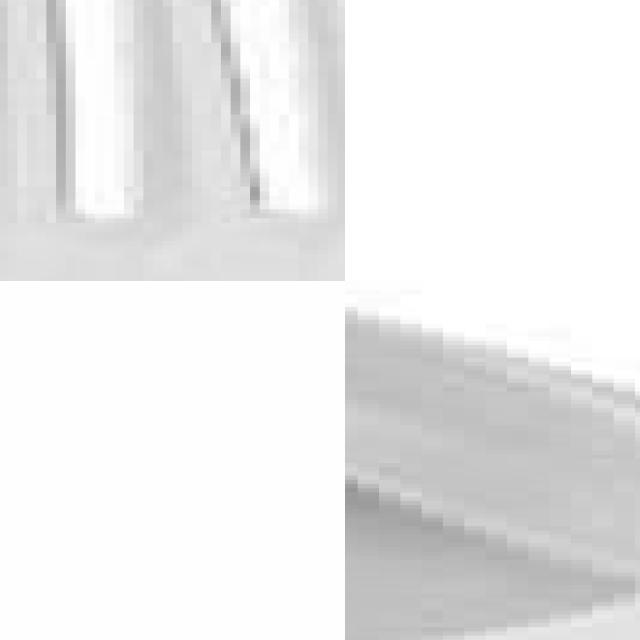forks: (0, 0, 345, 281)
spoons: (345, 281, 640, 640)
